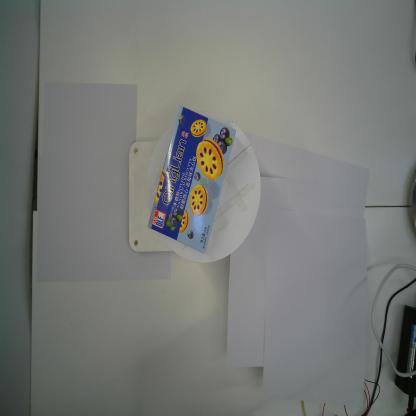Dessert: (147, 104, 237, 254)
